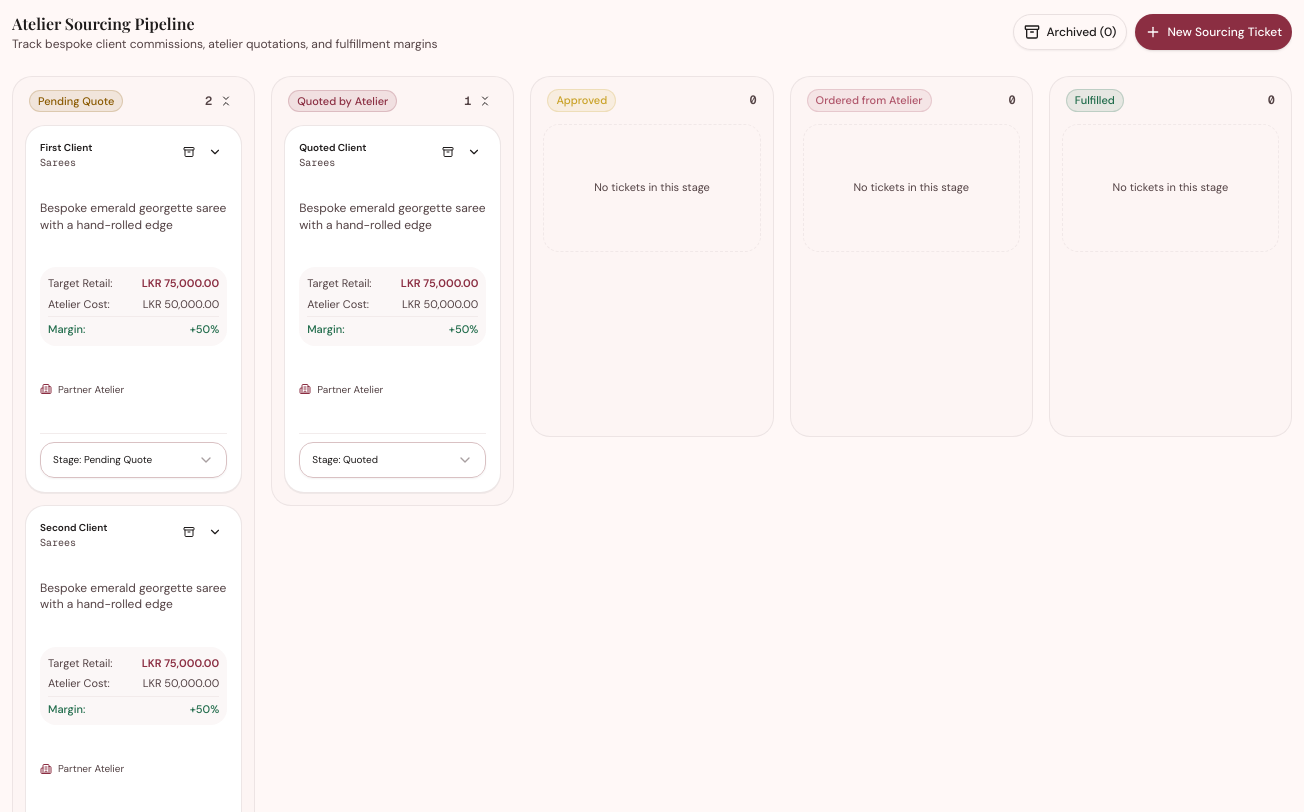
Scenario: folding a ticket › folds a whole column with one control, and opens it again
Click the button named "Fold every ticket in Pending Quote": (226, 101) [214,89,238,113]
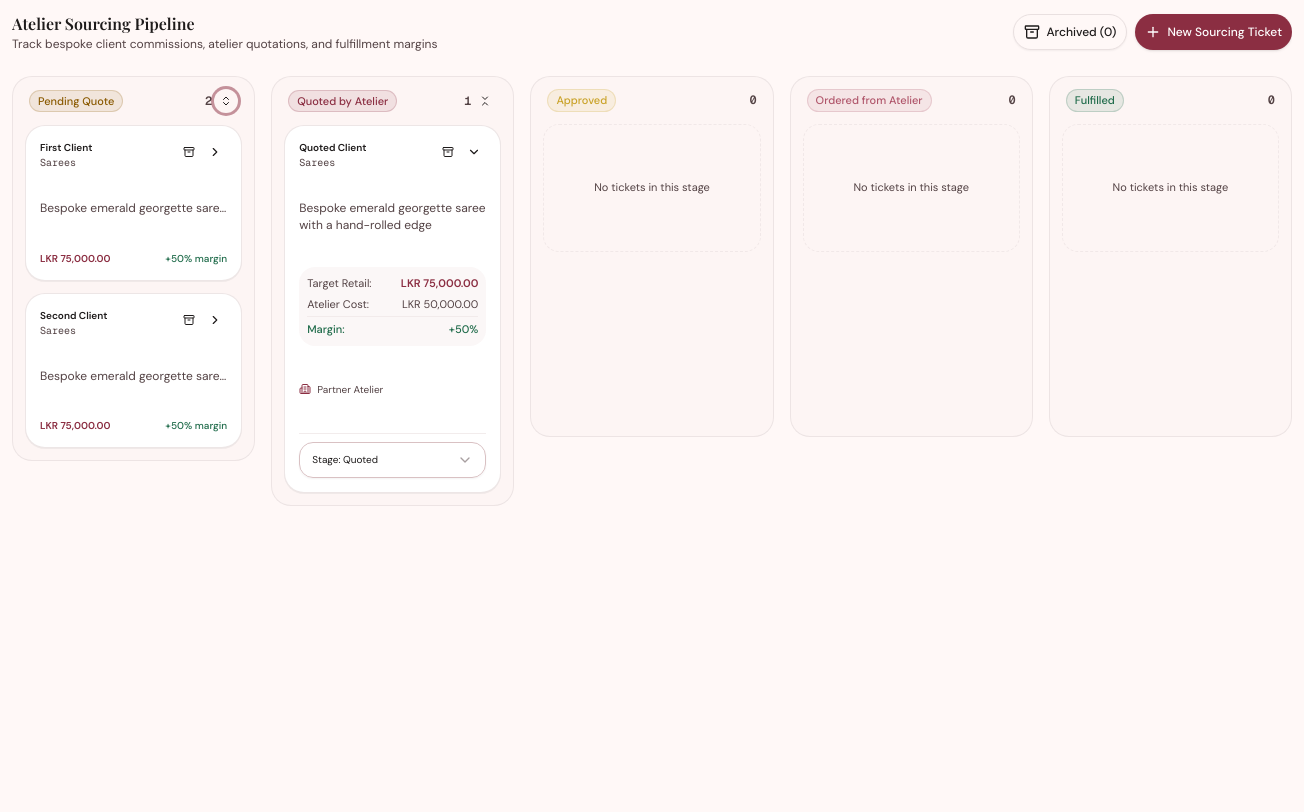
Expected: the text "Atelier Cost:" is shown once, [307,296,369,312]
Click the button named "Expand every ticket in Pending Quote": (226, 101) [214,89,238,113]
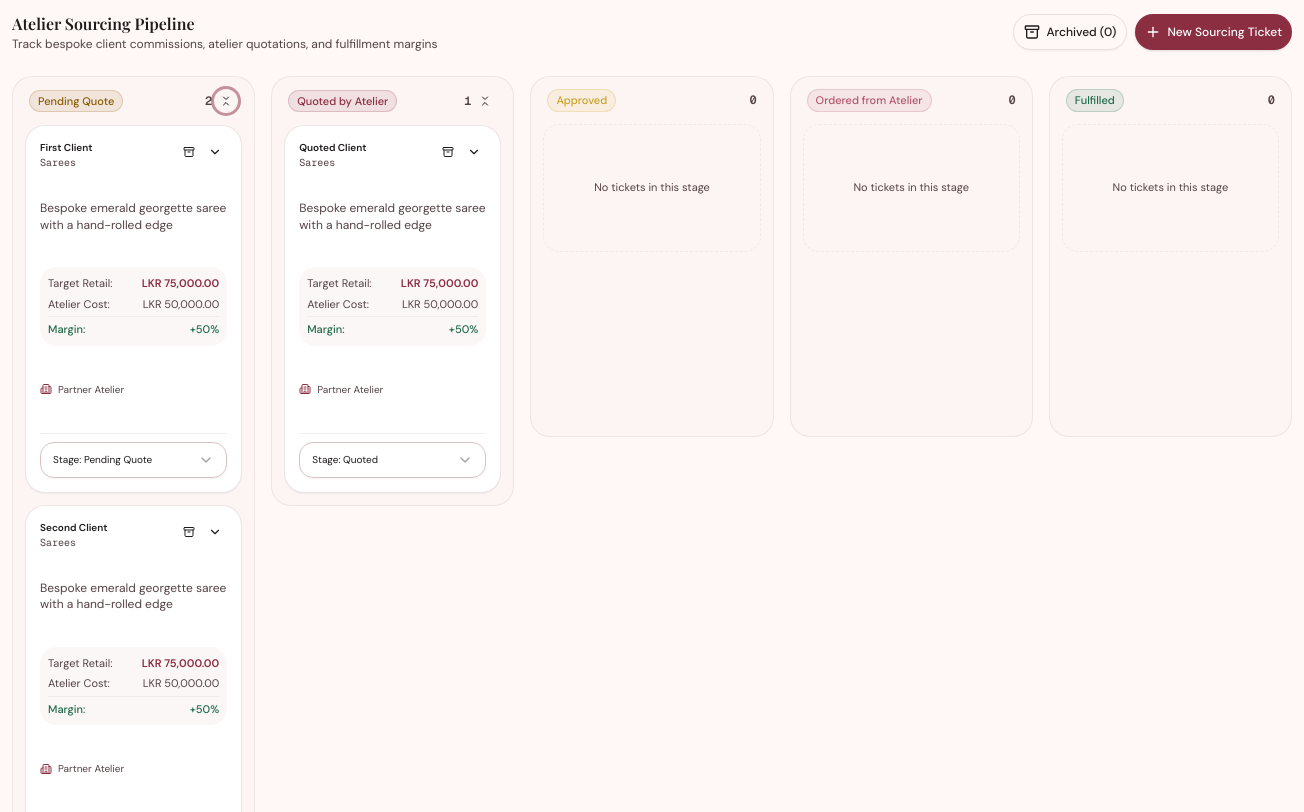
Now the text "Atelier Cost:" is shown 3 times, box [48,296,110,312]; [48,675,110,692]; [307,296,369,312]
